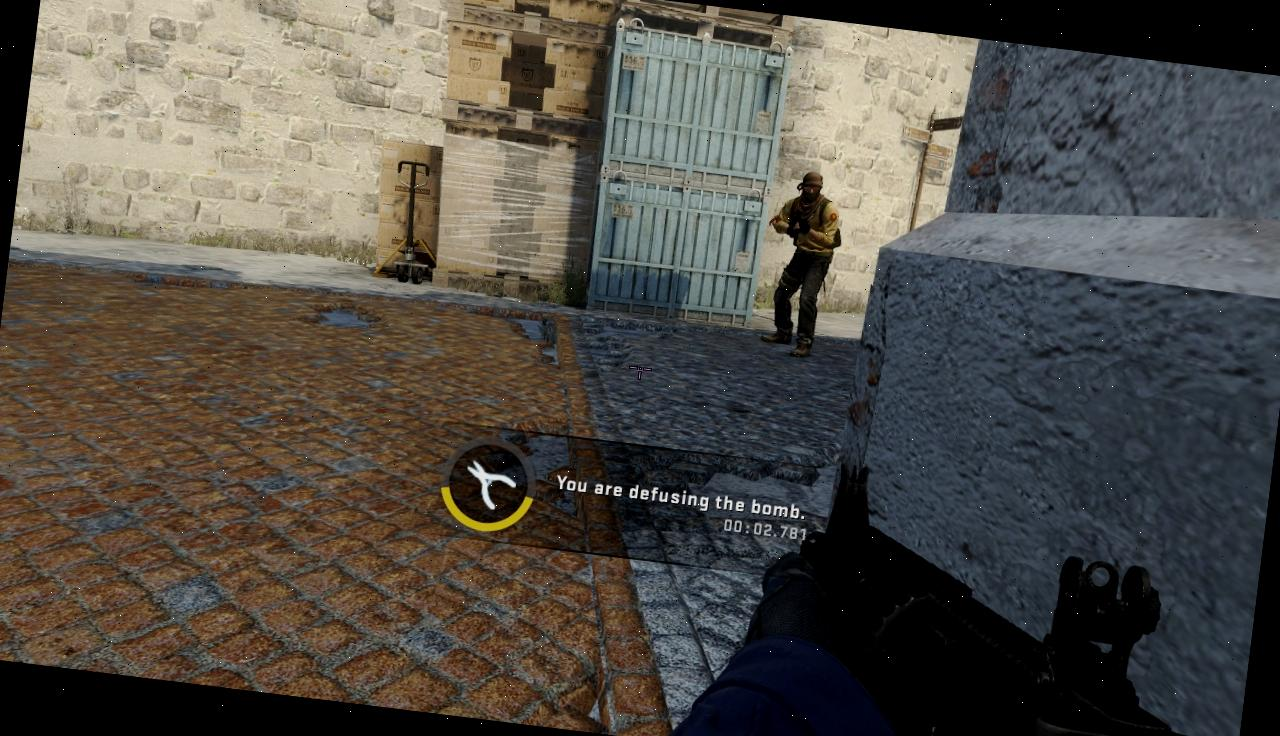rifle: (762, 451, 1267, 736)
tt: (760, 168, 844, 363)
tthead: (797, 170, 828, 202)
